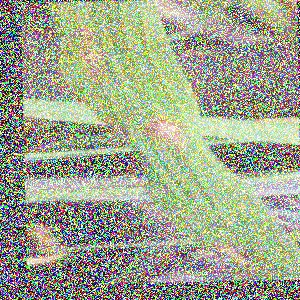Brown_Spot: (143, 100, 194, 162), (89, 107, 153, 155), (202, 230, 260, 281), (62, 17, 118, 55), (76, 43, 118, 81)
